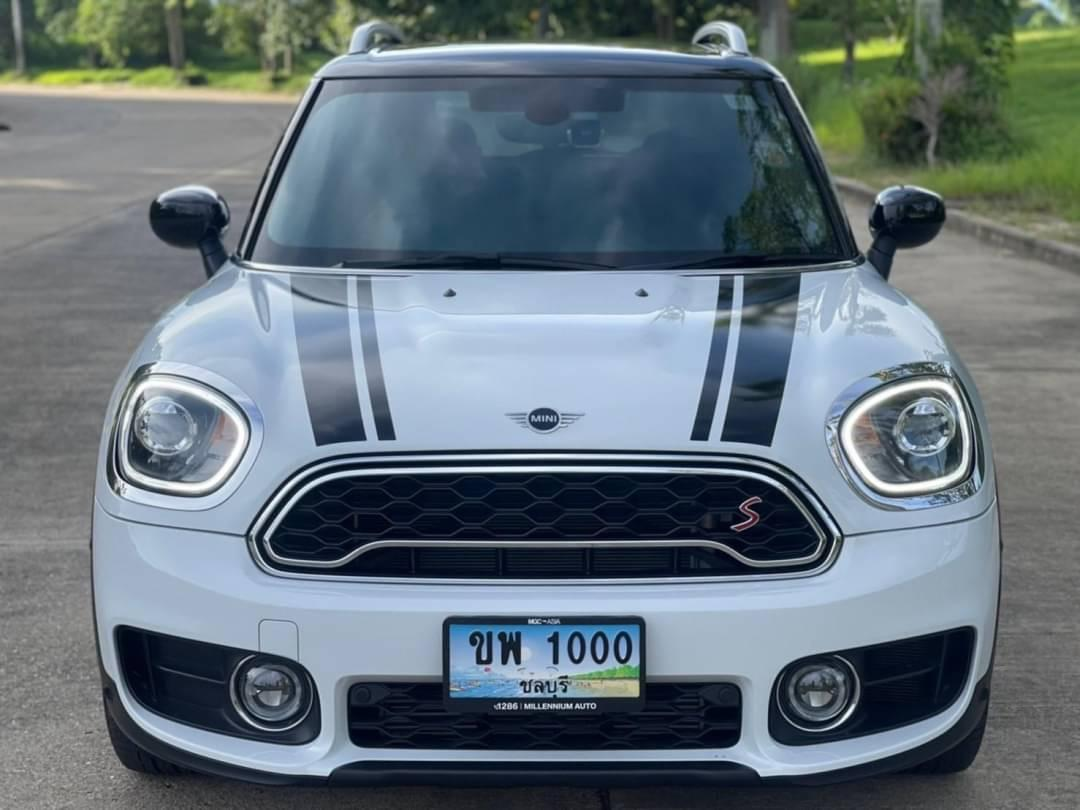license-plate: (448, 614, 644, 710)
